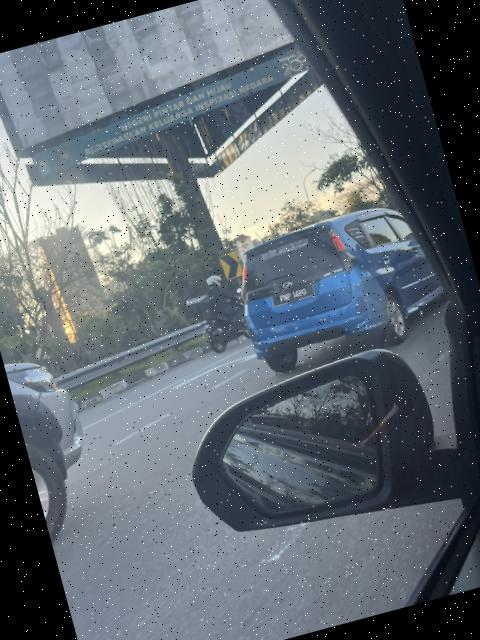License_Plate: (267, 282, 323, 313)
car: (224, 203, 449, 381)
